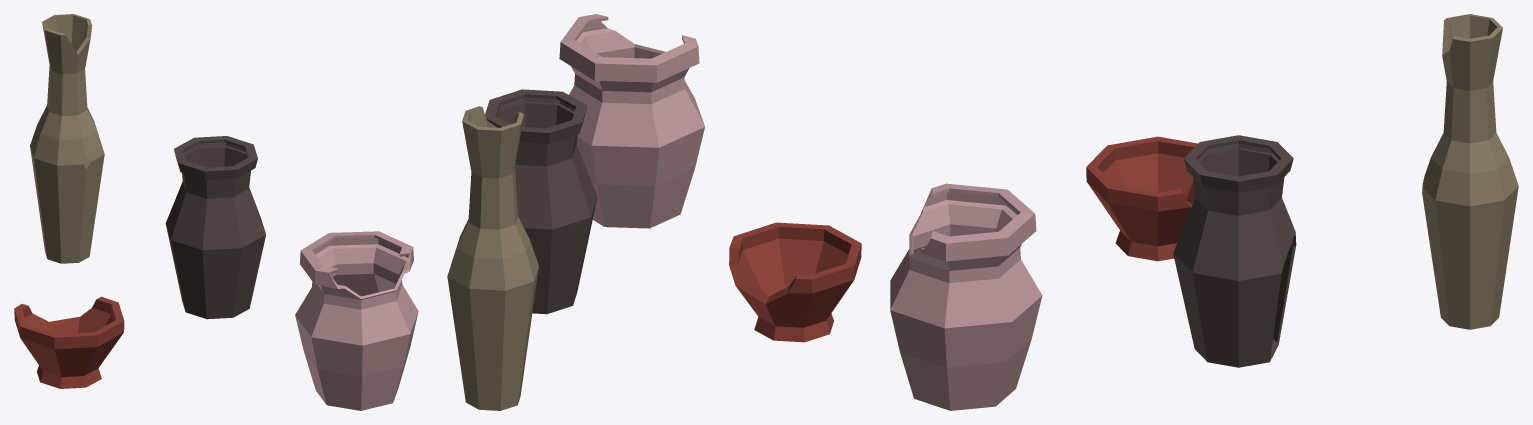
File: vaza.fbx
The picture shows the model from 3 angles, left to right: view 1: azimuth 30°, elevation 25°; view 2: azimuth 150°, elevation 25°; view 3: azimuth 270°, elevation 25°; orthographic projection. The views are drawn at different scales.
Parts seen in each view (by area): view 1: Circle.005, Circle.007, Circle.008, Circle.006; view 2: Circle.005, Circle.008, Circle.007, Circle.006; view 3: Circle.005, Circle.007, Circle.008, Circle.006.
Boxes of the visible parts, bbox=[...] form: Circle.005: bbox=[295, 231, 418, 410]; Circle.007: bbox=[165, 136, 265, 319]; Circle.008: bbox=[30, 14, 104, 263]; Circle.006: bbox=[14, 296, 124, 388]; Circle.005: bbox=[559, 14, 704, 228]; Circle.008: bbox=[447, 106, 538, 410]; Circle.007: bbox=[485, 89, 597, 314]; Circle.006: bbox=[729, 222, 861, 342]; Circle.005: bbox=[890, 183, 1042, 410]; Circle.007: bbox=[1173, 135, 1296, 367]; Circle.008: bbox=[1422, 14, 1518, 329]; Circle.006: bbox=[1086, 136, 1197, 261].
Size of the model in its own units: 264 by 196 by 364.
